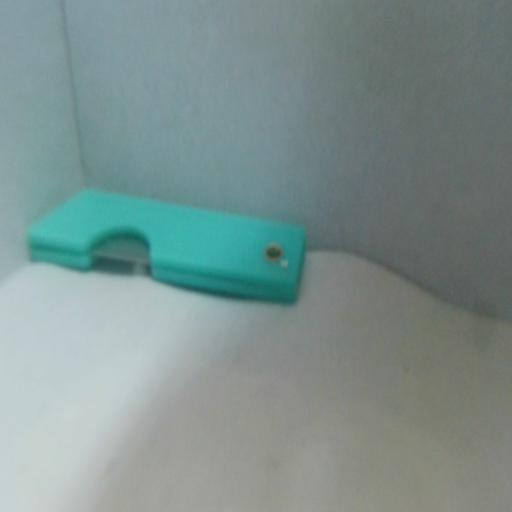rubbish: (25, 180, 309, 316)
